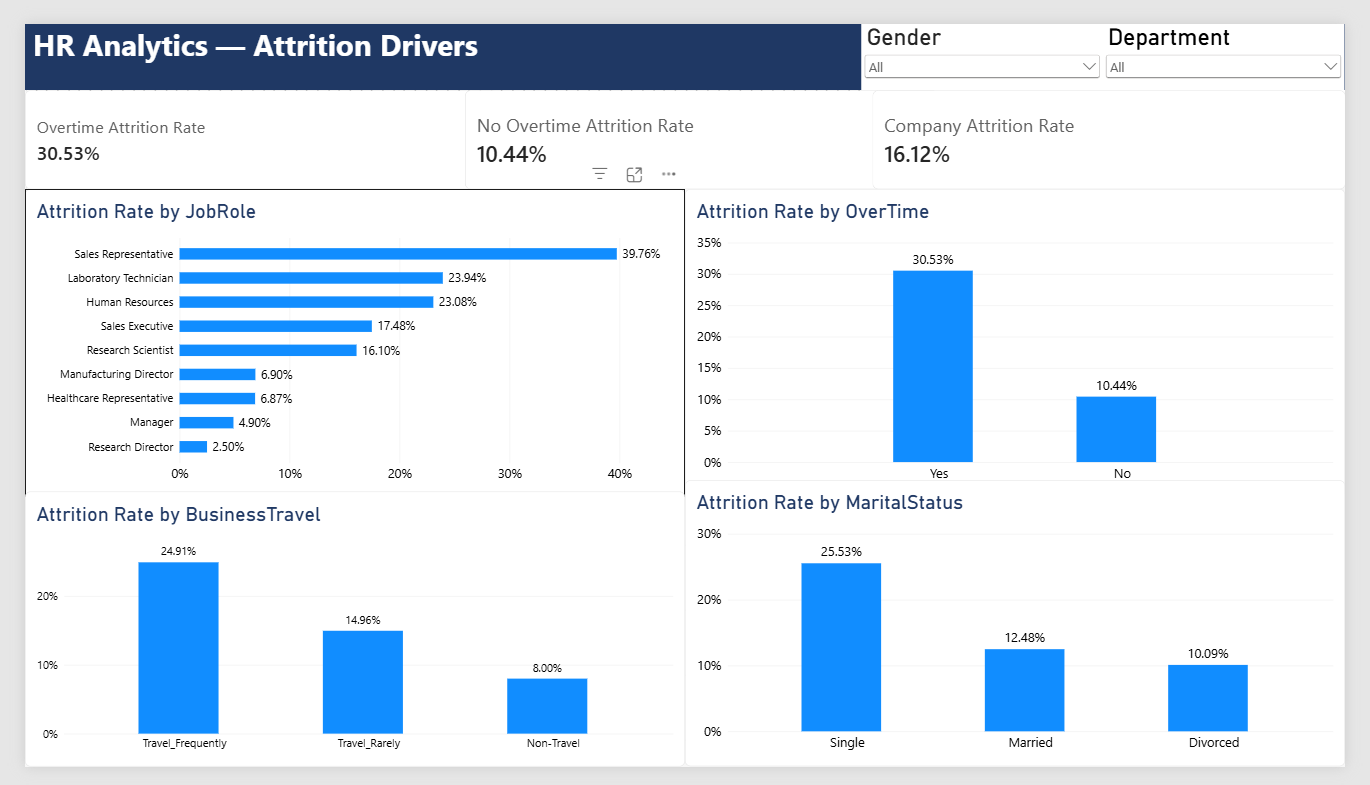

The page's visual inventory and layout, read from the dashboard file:
{"tool":"powerbi","page":{"name":"Attrition Drivers","canvas":[1920,1080],"ordinal":1},"visuals":[{"type":"textbox","box":[0,0,1920,96],"z":0},{"type":"slicer","fields":{"Values":["HR_Data.Gender"]},"box":[1216,0,352,112],"z":1000},{"type":"slicer","fields":{"Values":["HR_Data.Department"]},"box":[1568,0,352,112],"z":2000},{"type":"cardVisual","fields":{"Data":["_Measures.Overtime Attrition Rate"]},"box":[0,96,688,144],"z":3000},{"type":"cardVisual","fields":{"Data":["_Measures.No Overtime Attrition Rate"]},"box":[640,96,688,144],"z":4000},{"type":"cardVisual","fields":{"Data":["_Measures.Company Attrition Rate"]},"box":[1232,96,688,144],"z":5000},{"type":"clusteredBarChart","title":"Attrition Rate by Job Role","fields":{"Category":["HR_Data.JobRole"],"Y":["_Measures.Attrition Rate"]},"box":[0,240,960,448],"z":6000},{"type":"clusteredColumnChart","title":"Attrition Rate by Over Time","fields":{"Category":["HR_Data.OverTime"],"Y":["_Measures.Attrition Rate"]},"box":[960,240,960,448],"z":7000},{"type":"clusteredColumnChart","title":"Attrition Rate by Business Travel","fields":{"Category":["HR_Data.BusinessTravel"],"Y":["_Measures.Attrition Rate"]},"box":[0,680,960,400],"z":8000},{"type":"clusteredColumnChart","title":"Attrition Rate by Marital Status","fields":{"Category":["HR_Data.MaritalStatus"],"Y":["_Measures.Attrition Rate"]},"box":[960,664,960,416],"z":9000}]}

Visuals, with their boxes in screenshot pixels (x1, y1, x2, y2), scaled from the page's 1920x1080 canvas onto the 1370x785 screenshot:
textbox: rect(0, 0, 1369, 70)
slicer - HR_Data.Gender: rect(868, 0, 1119, 81)
slicer - HR_Data.Department: rect(1119, 0, 1369, 81)
cardVisual - _Measures.Overtime Attrition Rate: rect(0, 70, 491, 174)
cardVisual - _Measures.No Overtime Attrition Rate: rect(457, 70, 948, 174)
cardVisual - _Measures.Company Attrition Rate: rect(879, 70, 1369, 174)
"Attrition Rate by Job Role" clusteredBarChart: rect(0, 174, 685, 500)
"Attrition Rate by Over Time" clusteredColumnChart: rect(685, 174, 1369, 500)
"Attrition Rate by Business Travel" clusteredColumnChart: rect(0, 494, 685, 784)
"Attrition Rate by Marital Status" clusteredColumnChart: rect(685, 483, 1369, 784)
